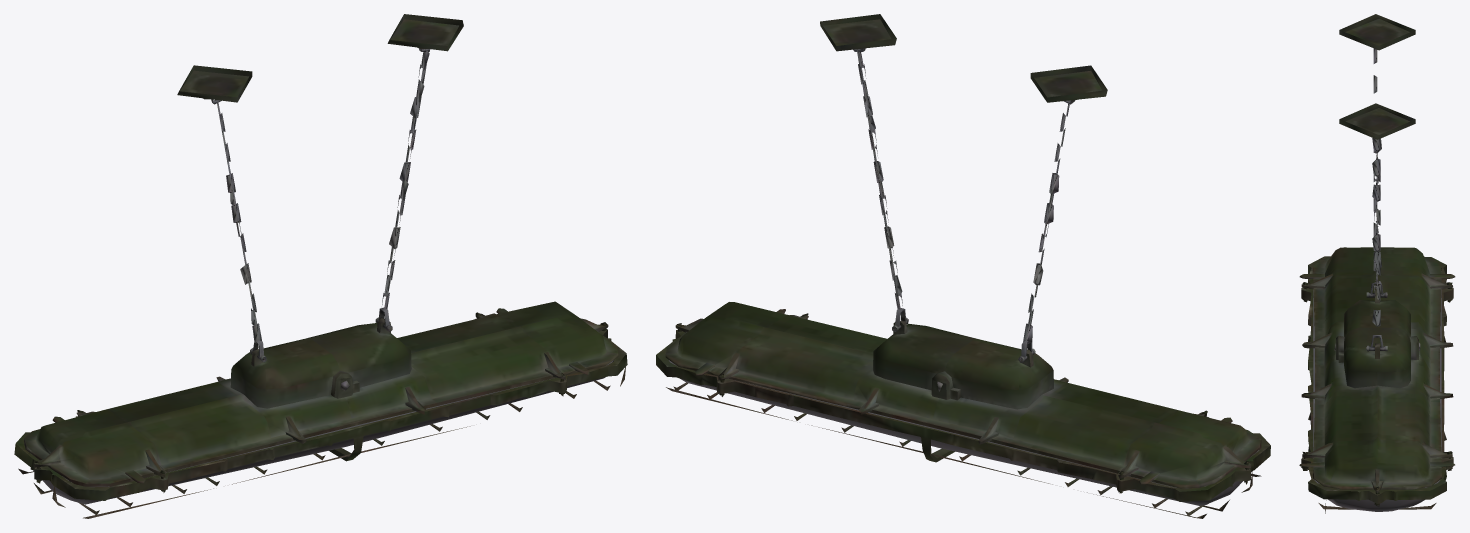
Rendered from caged_hanging_light.glb.
3 views of the same model, side by side, from view 1: azimuth 30°, elevation 25°; view 2: azimuth 150°, elevation 25°; view 3: azimuth 270°, elevation 25° (orthographic). The views are drawn at different scales.
Visible parts, largest first — view 1: caged_hanging_light; view 2: caged_hanging_light; view 3: caged_hanging_light.
Part boxes in pixels (left/top/right/bottom): caged_hanging_light: left=14, top=14, right=627, bottom=518; caged_hanging_light: left=656, top=14, right=1270, bottom=518; caged_hanging_light: left=1299, top=14, right=1455, bottom=513.
Size of the model in its own units: 1.16 by 0.7501 by 0.3149.
1 material, 1 textured.
